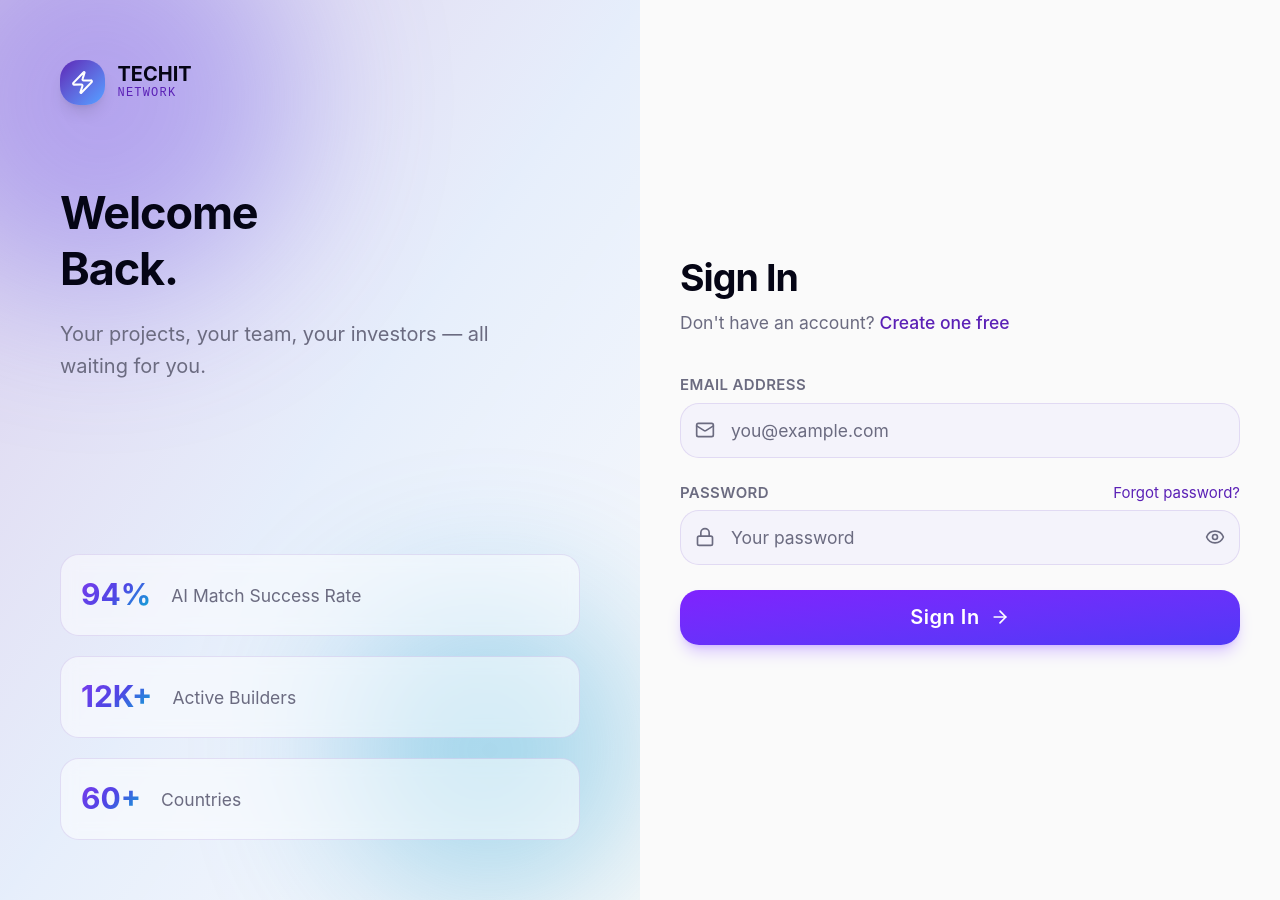
Test: Login page › shows a generic error for non-credential errors
In the field with placeholder "you@example.com": [960, 430] box [680,402,1240,458], type "a@b.com"
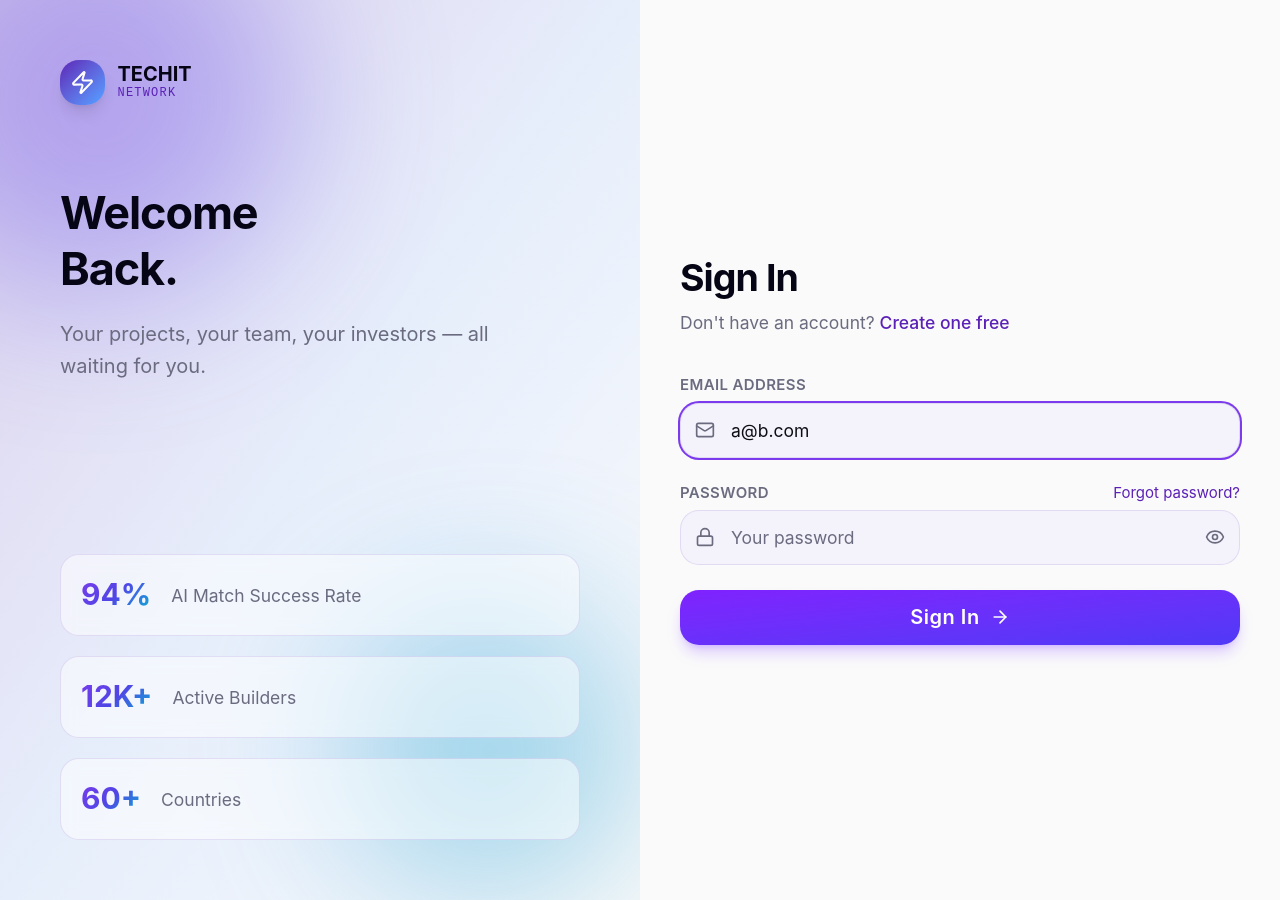
In the password field with placeholder "Your password": [960, 538] box [680,510,1240,565], type "pass"
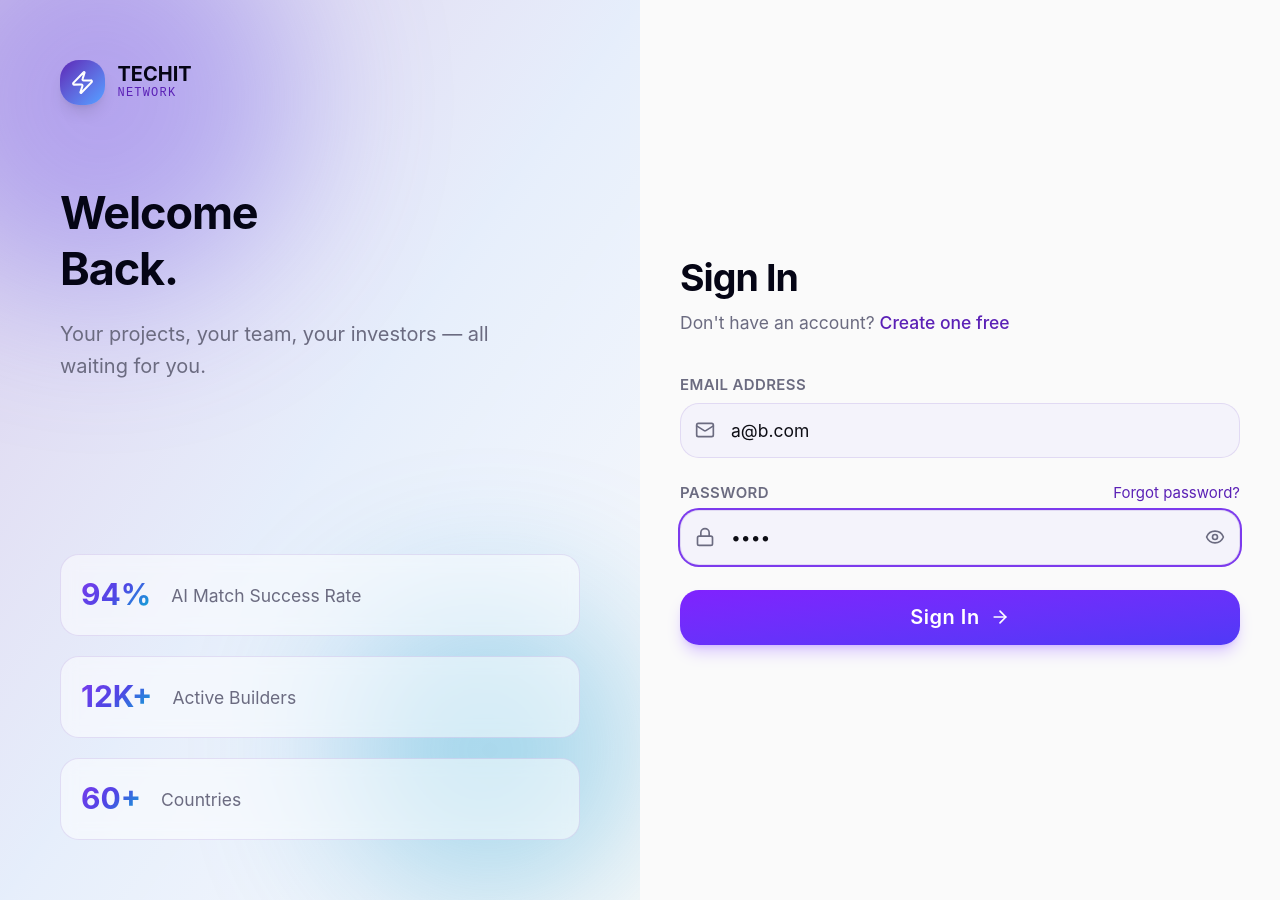
Click the button "Sign In": [960, 618] box [680,590,1240,645]
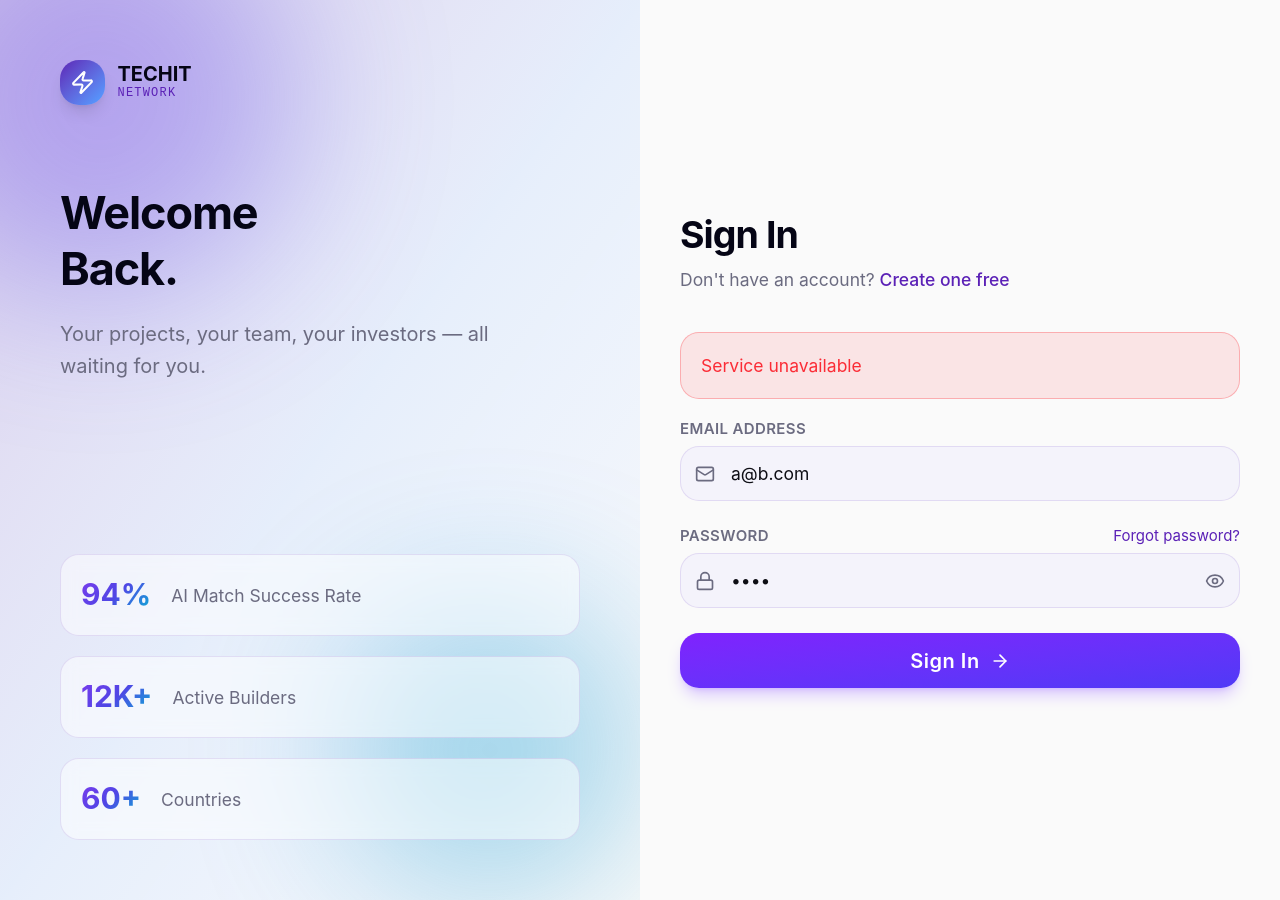
Expected: the text "Service unavailable" is shown, [680,332,1240,398]
